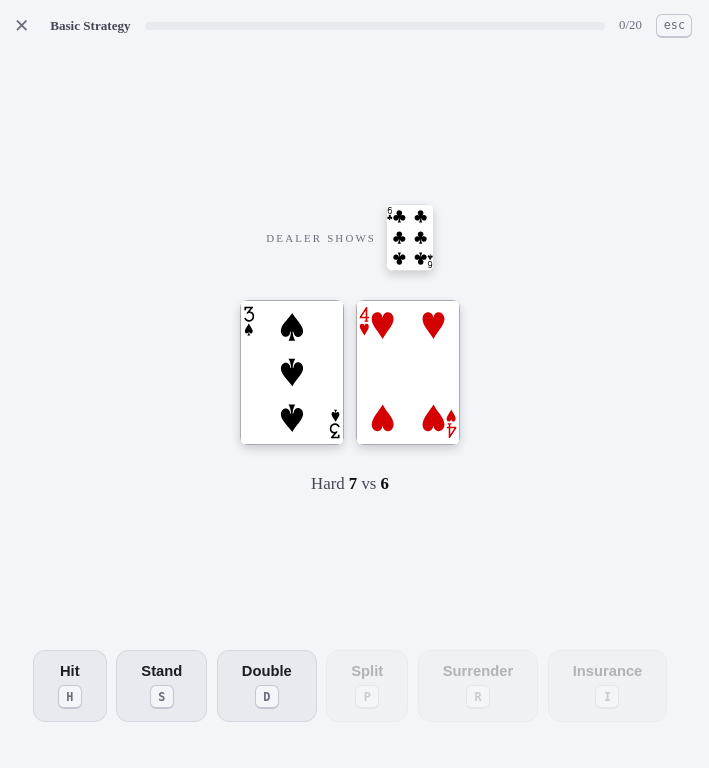
Test case: BasicStrategyDrillPageComponent › miss — the only pause in the loop › shows the rule in place of the question and waits
Click the button with class "acts__btn" showing "Stand S" at (162, 686), box x1=116 y1=650 x2=207 y2=722
Wait 5000 ms
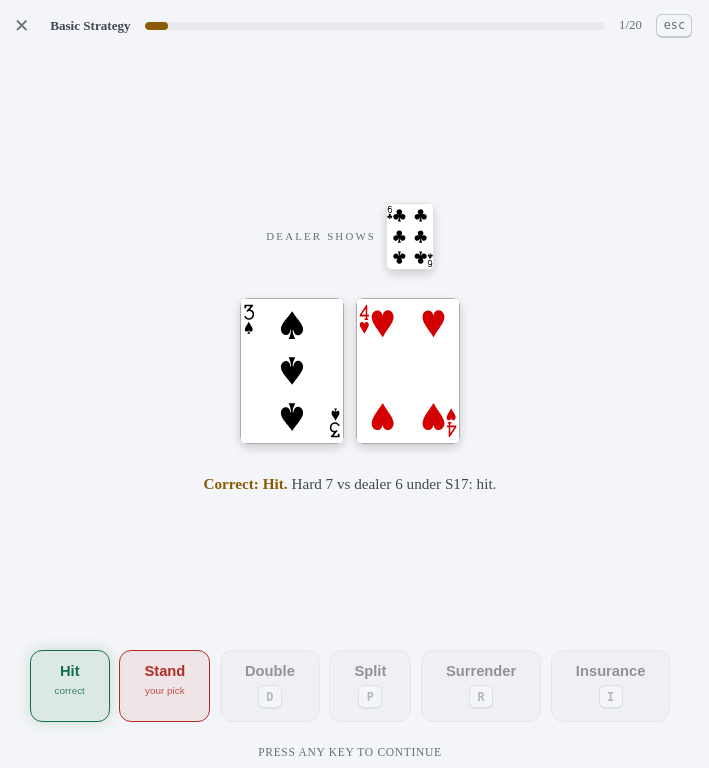
Expected: the element with class "drill__rule" shows "Correct: Hit.", x1=204 y1=475 x2=288 y2=492
Expected: the element with class "drill__rule" shows "Hard 7 vs dealer 6 under S17: hit.", x1=288 y1=475 x2=496 y2=492
Expected: the element with class "drill__question" is gone
